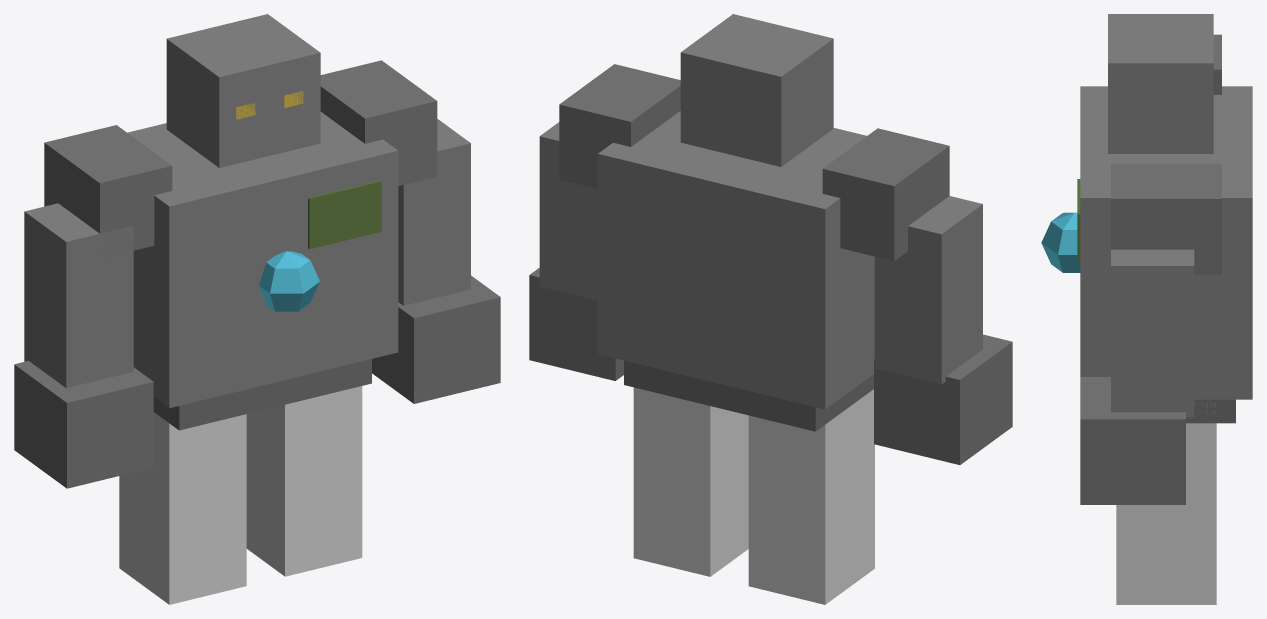
Rendered from e_golem.fbx.
3 renders of one model, left to right at view 1: azimuth 30°, elevation 25°; view 2: azimuth 150°, elevation 25°; view 3: azimuth 270°, elevation 25°, orthographic.
Visible parts, largest first — view 1: e_golem_Body, e_golem_ArmR, e_golem_ArmL, e_golem_LegR, e_golem_LegL; view 2: e_golem_Body, e_golem_ArmR, e_golem_LegR, e_golem_LegL, e_golem_ArmL; view 3: e_golem_Body, e_golem_ArmL, e_golem_LegL.
Boxes of the visible parts, x1,y1,x2,y2 form: e_golem_Body: (44,14,437,430); e_golem_ArmR: (14,203,153,488); e_golem_ArmL: (372,119,500,403); e_golem_LegR: (119,412,246,604); e_golem_LegL: (246,386,362,576); e_golem_Body: (559,14,949,431); e_golem_ArmR: (874,196,1012,464); e_golem_LegR: (748,389,874,604); e_golem_LegL: (633,387,748,576); e_golem_ArmL: (529,122,623,380); e_golem_Body: (1041,14,1252,423); e_golem_ArmL: (1080,249,1194,504); e_golem_LegL: (1116,403,1216,604).
Bounding box in the file's own units: 1.8 × 2.06 × 0.76.
